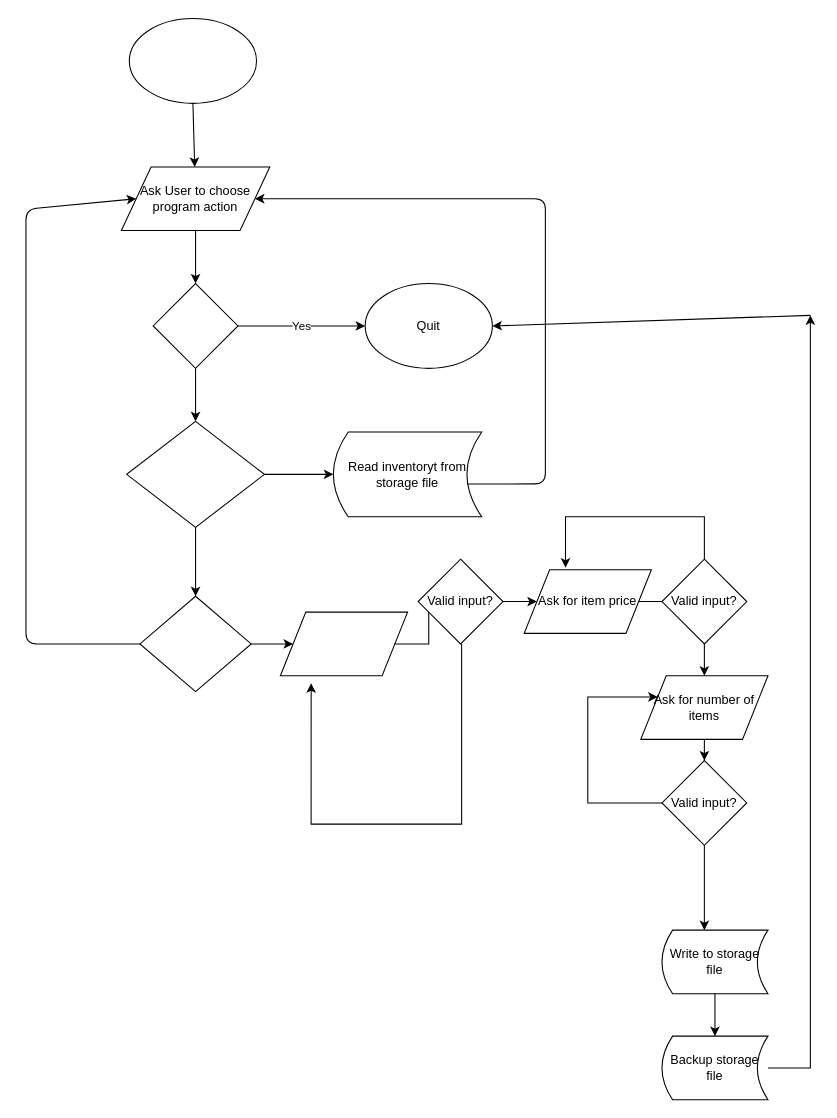
The diagram is 837 pixels wide and 1118 high, and some of its shapes have lost their labels. The centre of each missing label's shape, as x and y in pixels:
"Ask for item name" goes at point (343, 643).
"Start" goes at point (192, 60).
"User chose to add order?" goes at point (195, 643).
"User chose to quit?" goes at point (195, 325).
"User chose to read inventory?" goes at point (195, 473).
